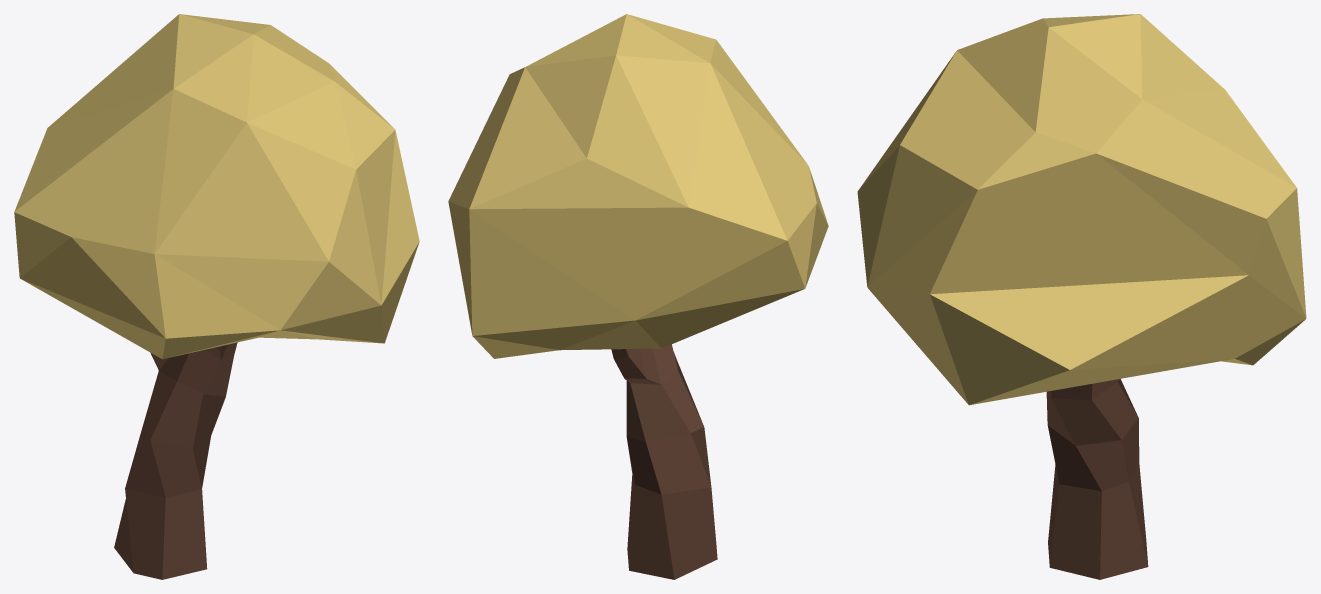
Rendered from Tree2.fbx.
3 views of the same model, side by side, from view 1: azimuth 30°, elevation 25°; view 2: azimuth 150°, elevation 25°; view 3: azimuth 270°, elevation 25° (orthographic). The views are drawn at different scales.
Parts seen in each view (by area): view 1: Icosphere.008, Cylinder.004; view 2: Icosphere.008, Cylinder.004; view 3: Icosphere.008, Cylinder.004.
Boxes of the visible parts, x1,y1,x2,y2 form: Icosphere.008: [14, 14, 419, 359]; Cylinder.004: [114, 342, 237, 579]; Icosphere.008: [448, 14, 828, 358]; Cylinder.004: [611, 344, 717, 579]; Icosphere.008: [857, 14, 1306, 405]; Cylinder.004: [1046, 379, 1148, 579].
Bounding box in the file's own units: 99.21 × 139 × 99.97.
